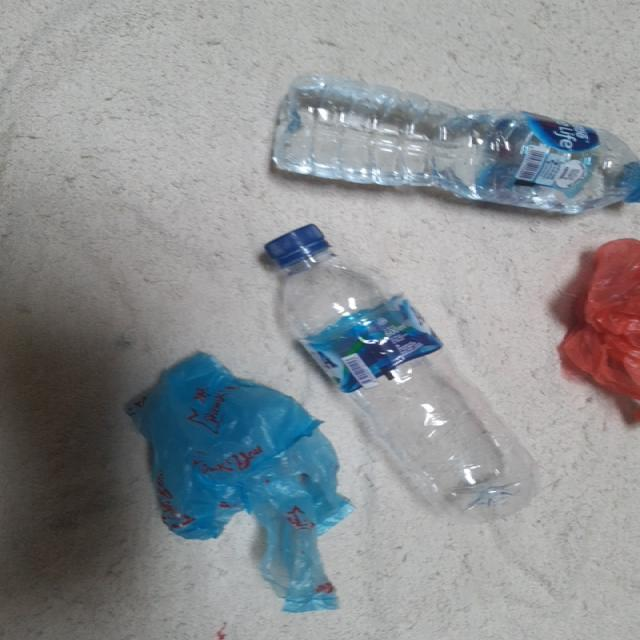Single-layer Plastic: (128, 352, 352, 612), (561, 239, 640, 402)
